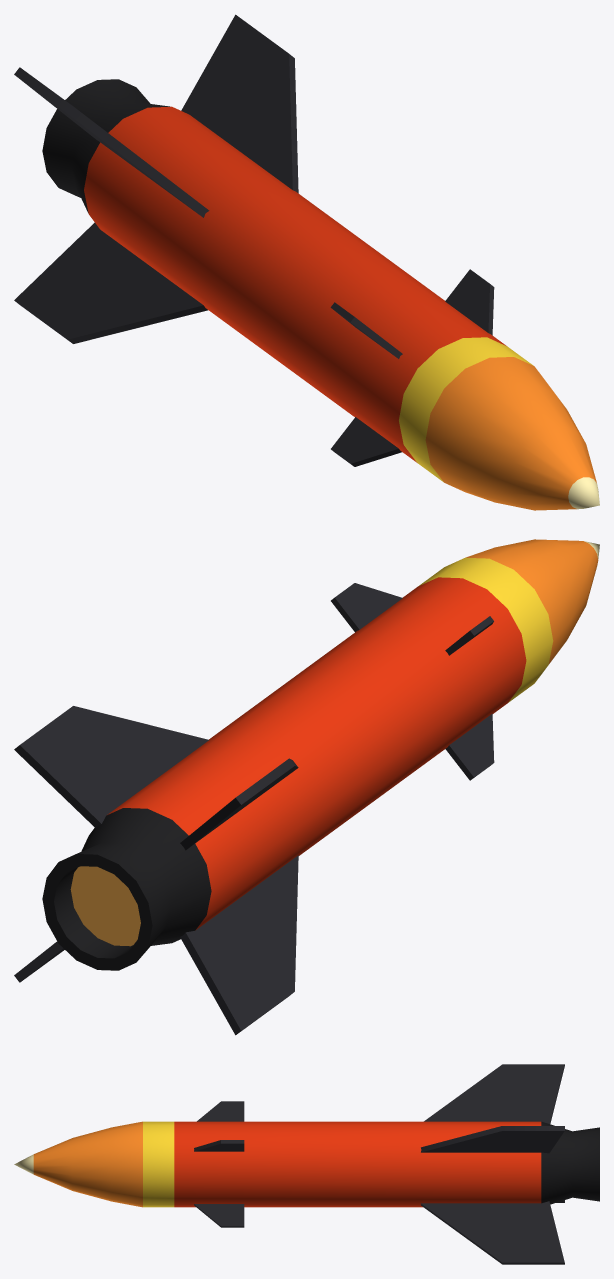
The model's file is Rocket.fbx.
3 renders of one model, top to bottom at view 1: azimuth 30°, elevation 25°; view 2: azimuth 150°, elevation 25°; view 3: azimuth 270°, elevation 25°, orthographic. The views are drawn at different scales.
Visible parts, largest first — view 1: Rocket; view 2: Rocket; view 3: Rocket.
Part boxes in pixels (x1,y1,x2,y2): Rocket: [14, 14, 599, 510]; Rocket: [14, 539, 599, 1035]; Rocket: [14, 1064, 599, 1264].
Size of the model in its own units: 39.17 by 39.17 by 150.
Materials: 1 (1 with a texture image).
